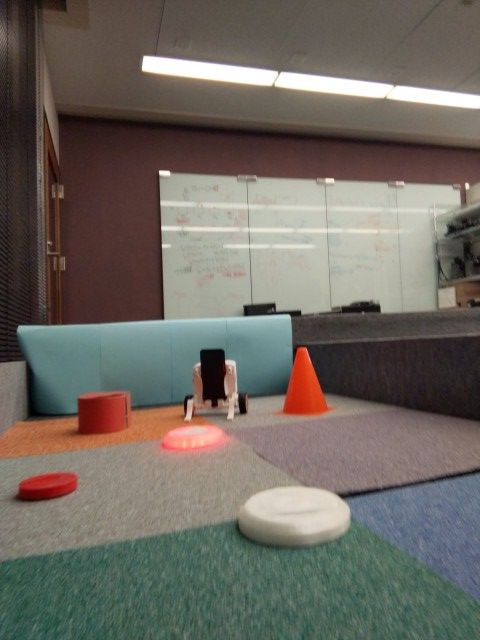f: (176, 347, 250, 423)
o: (237, 482, 354, 550)
r: (160, 423, 227, 454)
